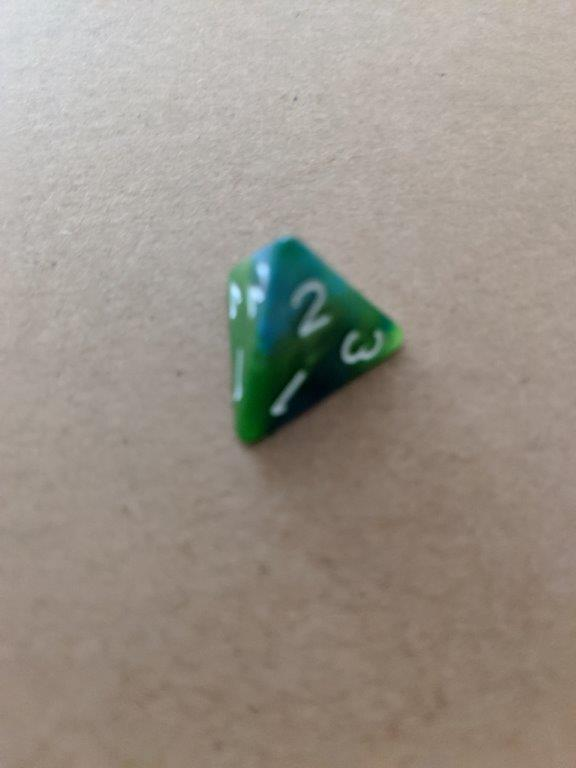d4-2: (219, 230, 407, 449)
